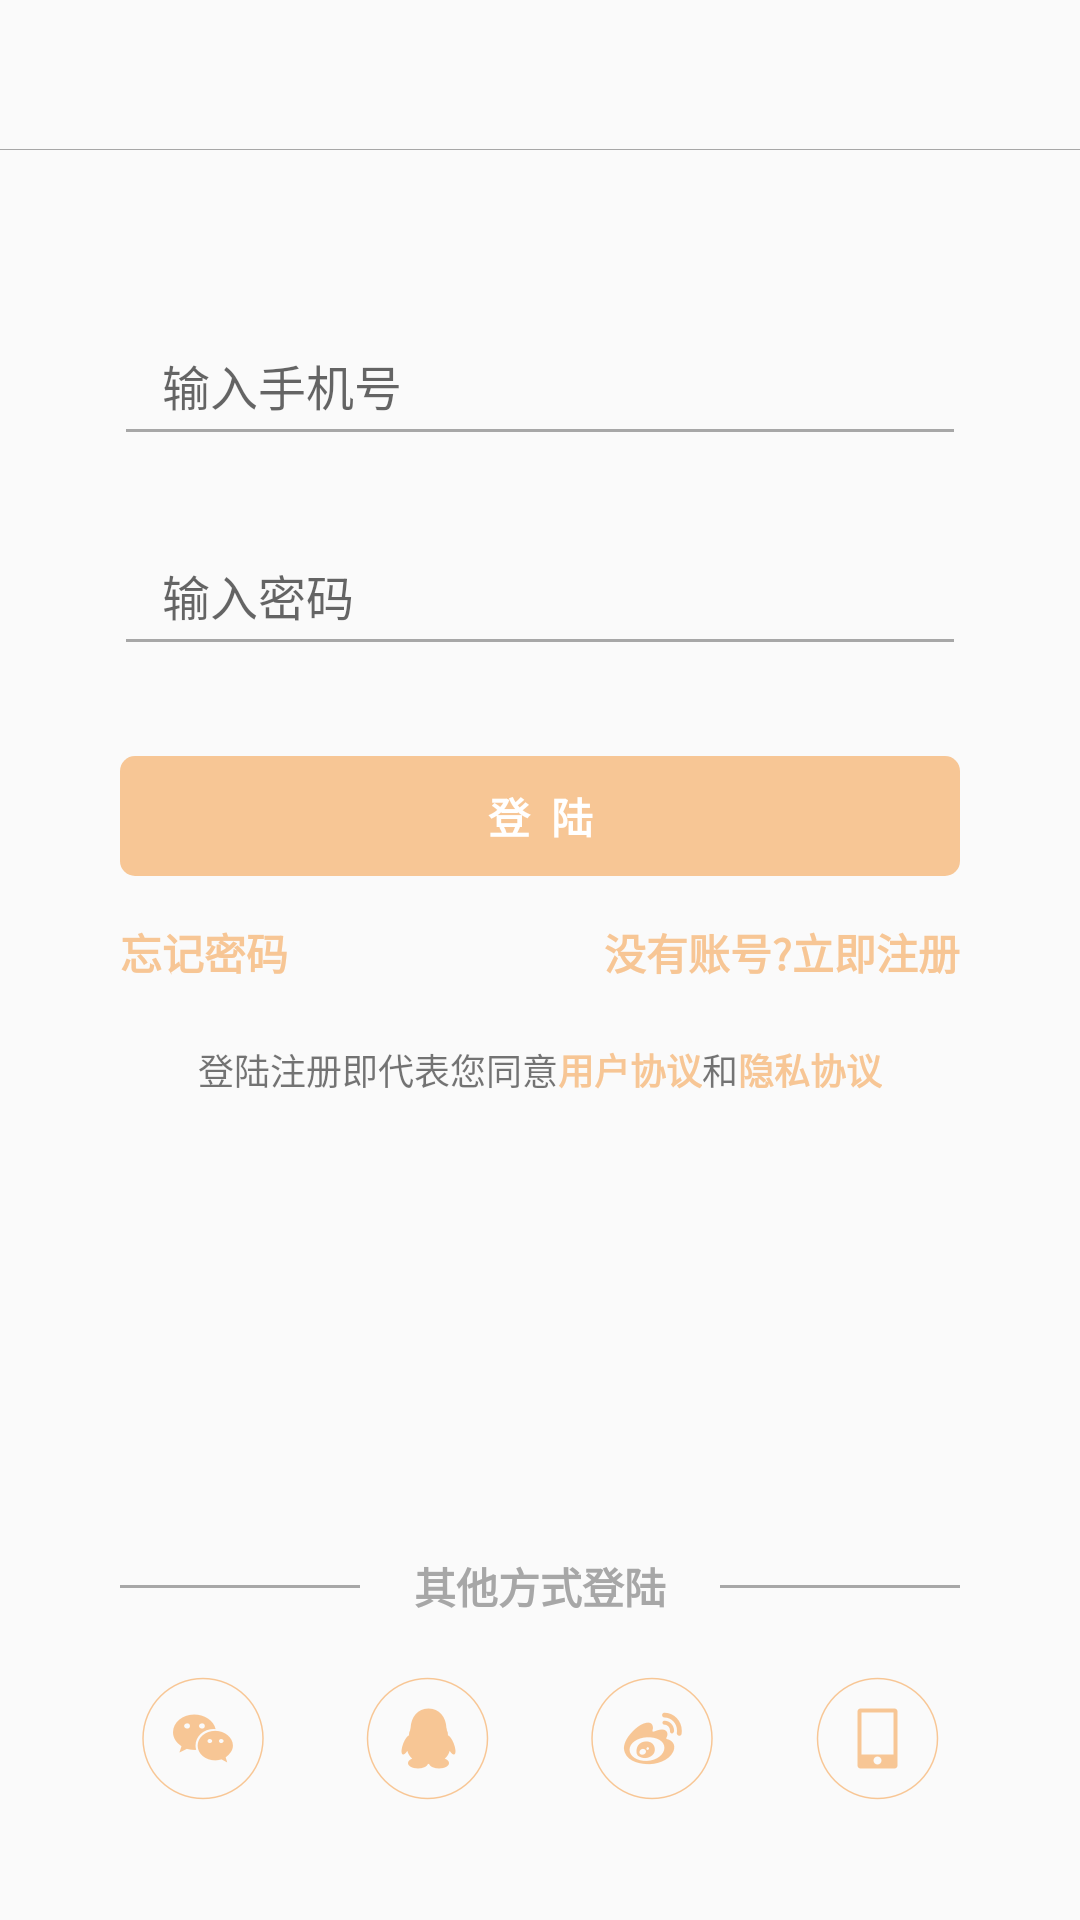

Named icons in this screenshot (1080×1920) and their centers, point (x, y):
phone: point (877, 1738)
